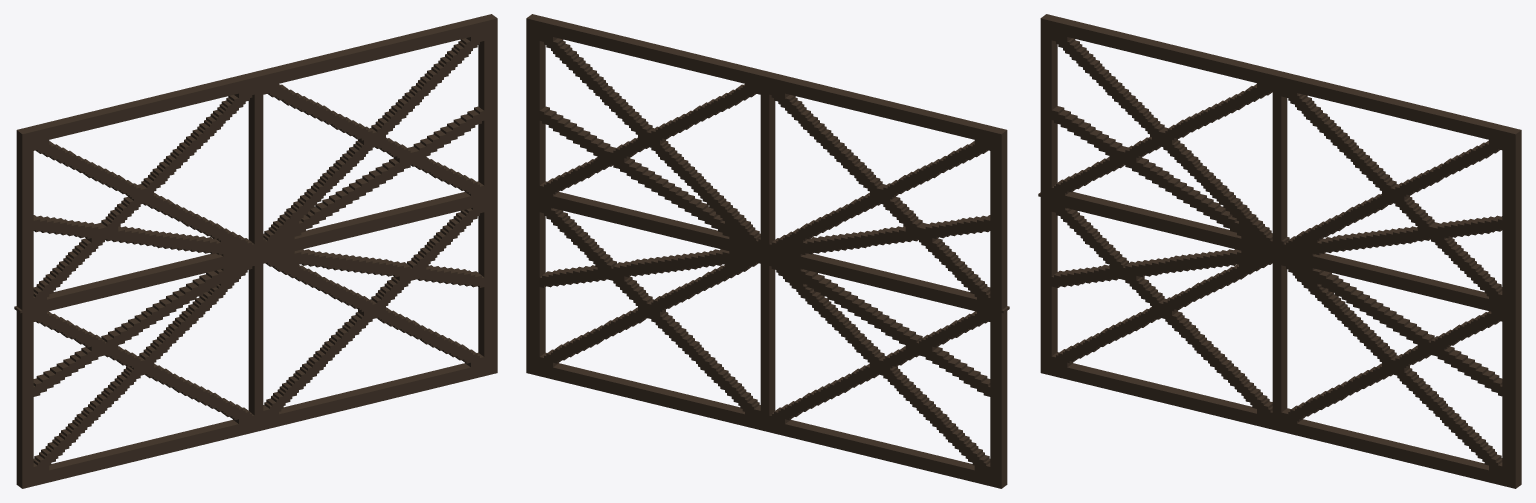
The model's file is lattice_window.glb.
The picture shows the model from 3 angles, left to right: view 1: azimuth 30°, elevation 25°; view 2: azimuth 150°, elevation 25°; view 3: azimuth 330°, elevation 25°; orthographic projection.
Parts seen in each view (by area): view 1: Lattice_Silhouette; view 2: Lattice_Silhouette; view 3: Lattice_Silhouette.
Boxes of the visible parts, bbox=[...] form: Lattice_Silhouette: bbox=[14, 14, 497, 488]; Lattice_Silhouette: bbox=[526, 14, 1009, 488]; Lattice_Silhouette: bbox=[1038, 14, 1521, 488].
Bounding box in the file's own units: 1.5 × 1.06 × 0.0325.
